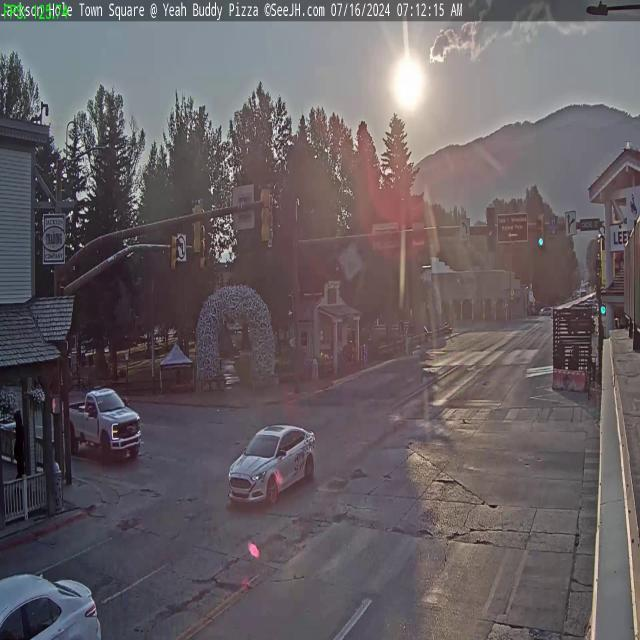pickup: (68, 386, 141, 462)
sedan: (227, 423, 316, 506), (0, 572, 101, 639)
traffic light: (260, 188, 271, 244), (170, 234, 178, 270), (536, 215, 544, 248)
